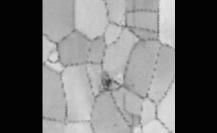good_void: (98, 70, 116, 96)
